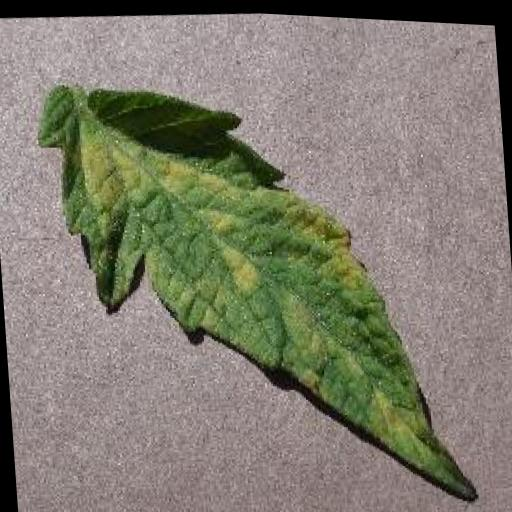Leaf Mold: (37, 56, 479, 512)
